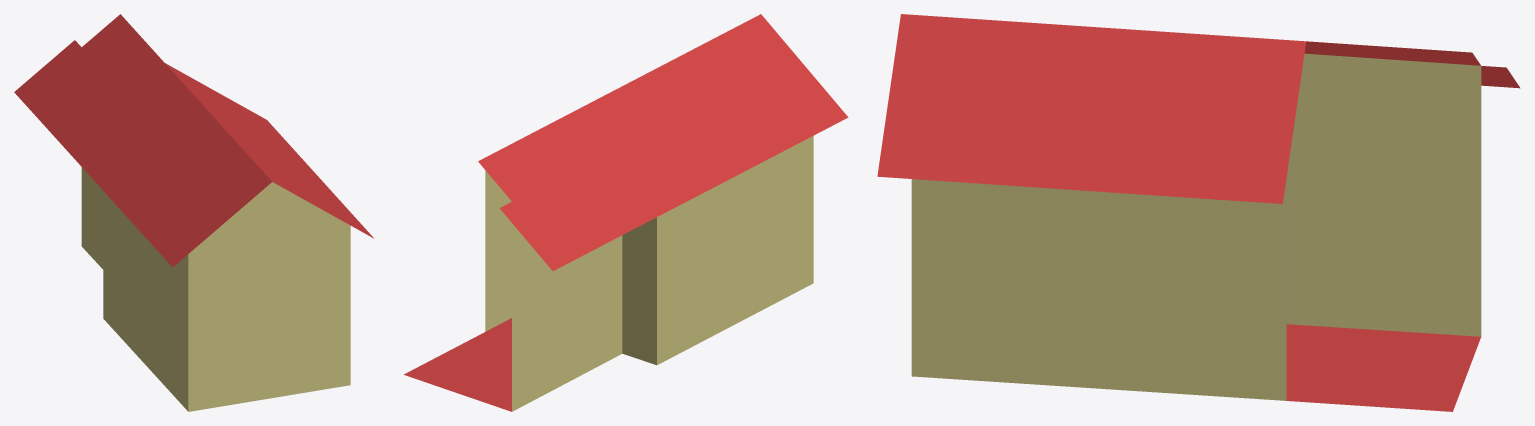
3 views of the same model, side by side, from view 1: azimuth 30°, elevation 25°; view 2: azimuth 150°, elevation 25°; view 3: azimuth 270°, elevation 25° (orthographic). The views are drawn at different scales.
Bounding box in the file's own units: 13.89 × 25.05 × 13.23.
